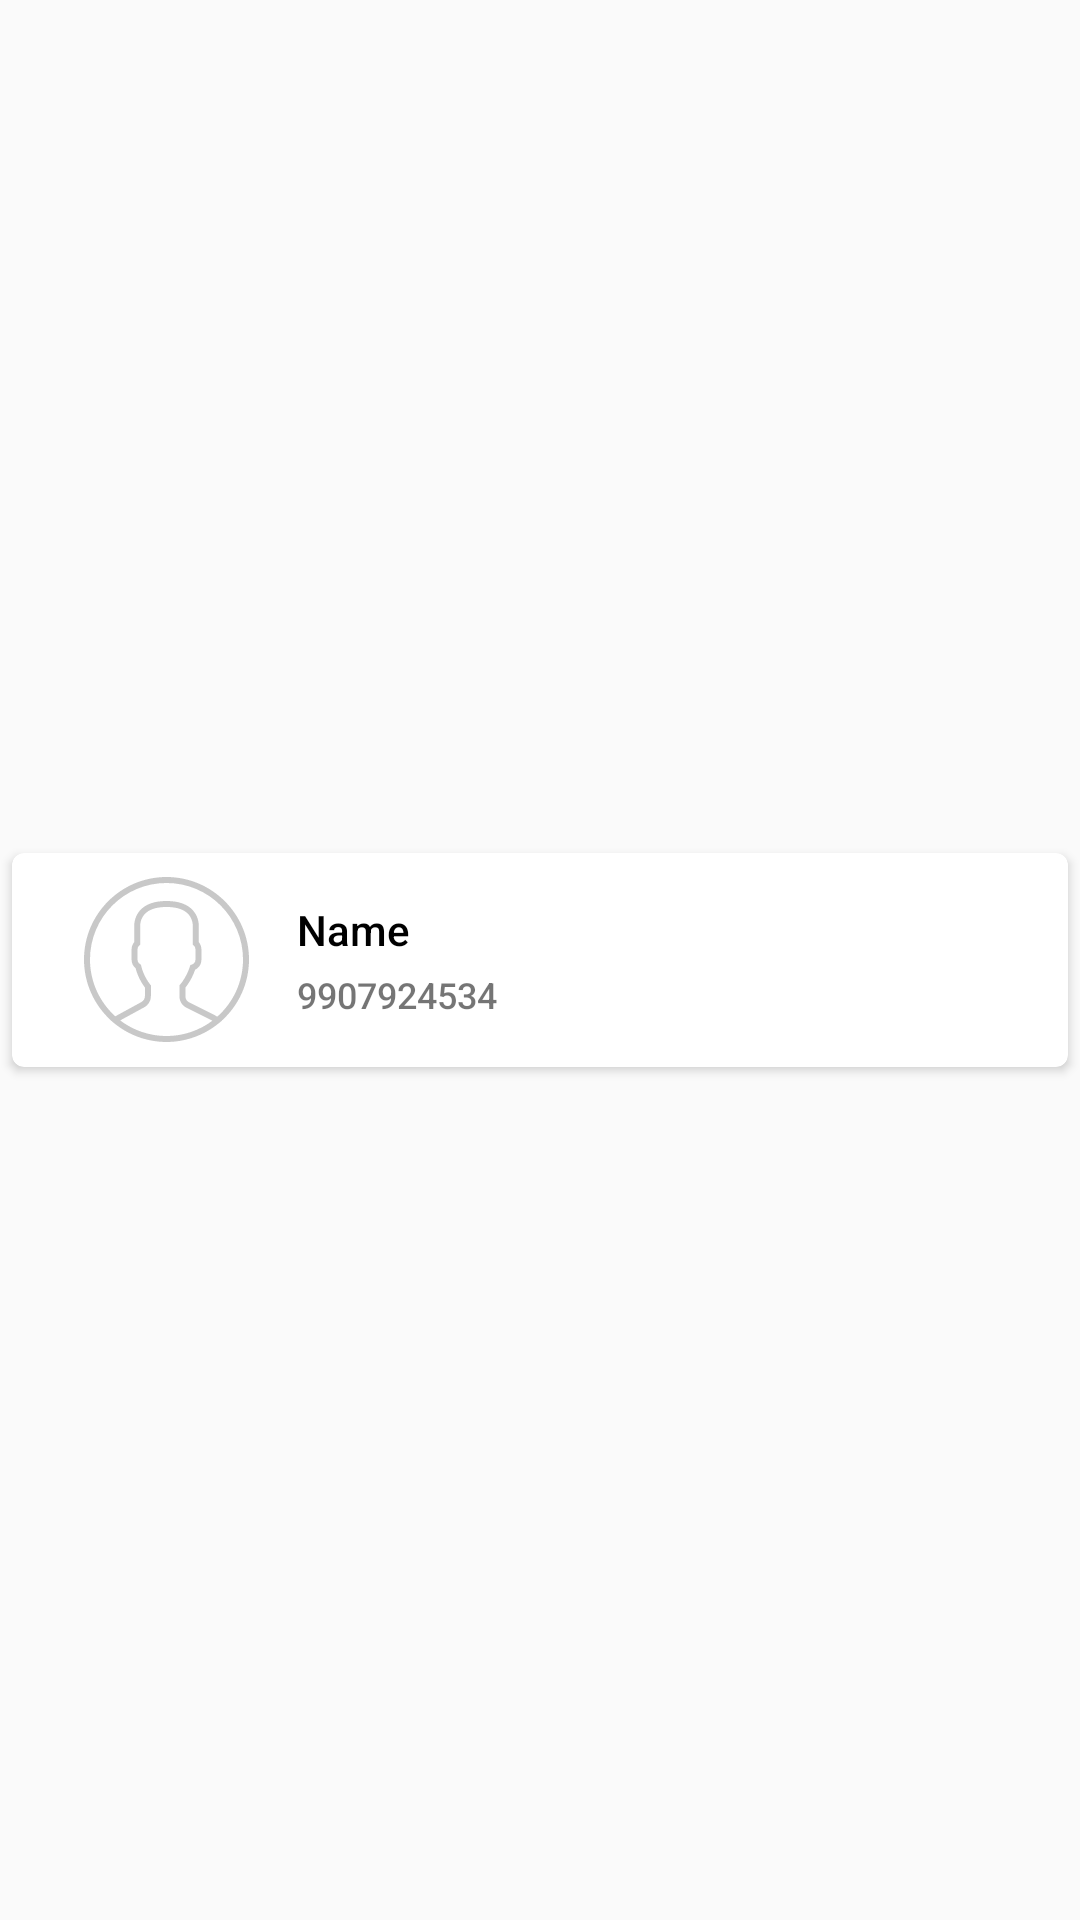

Icons on this 1080x1920 Android screen, each with the point to tap as (x=x, y=y):
circle user: (x=166, y=959)
